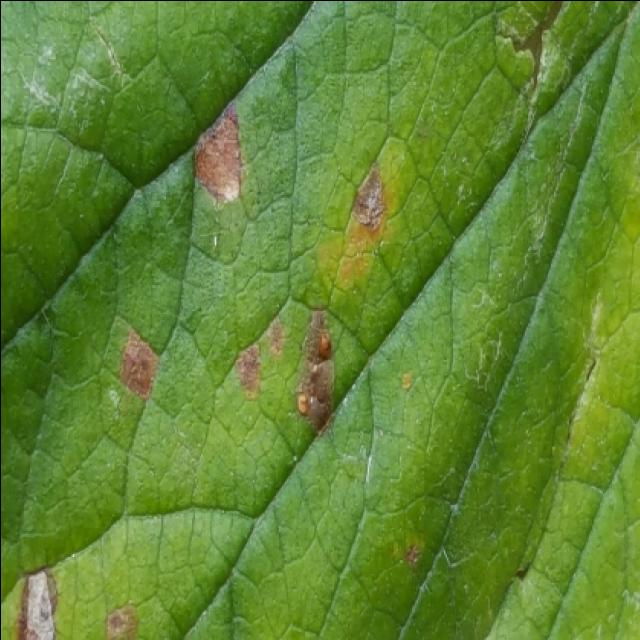Angular Leafspot: (2, 99, 441, 640)
